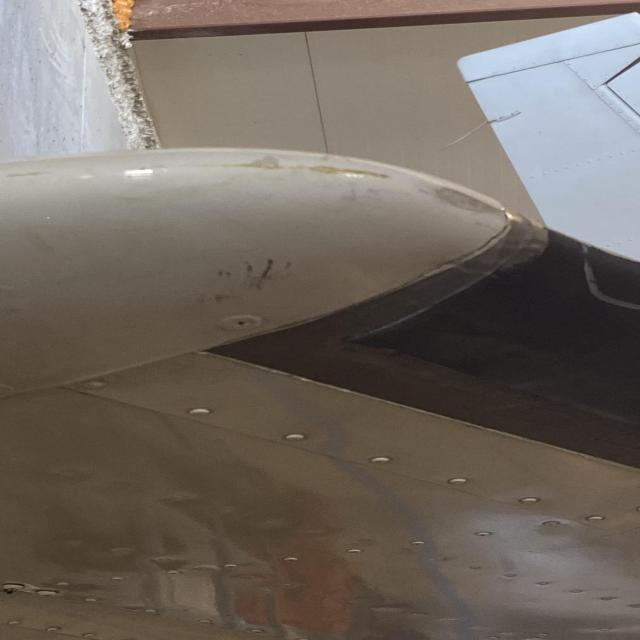Crack: (417, 219, 517, 278)
Paint-off: (432, 184, 510, 219), (303, 158, 394, 184), (252, 152, 288, 171)
